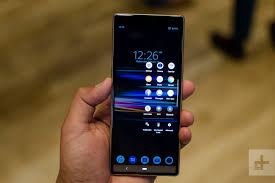sony: (102, 10, 186, 177)
